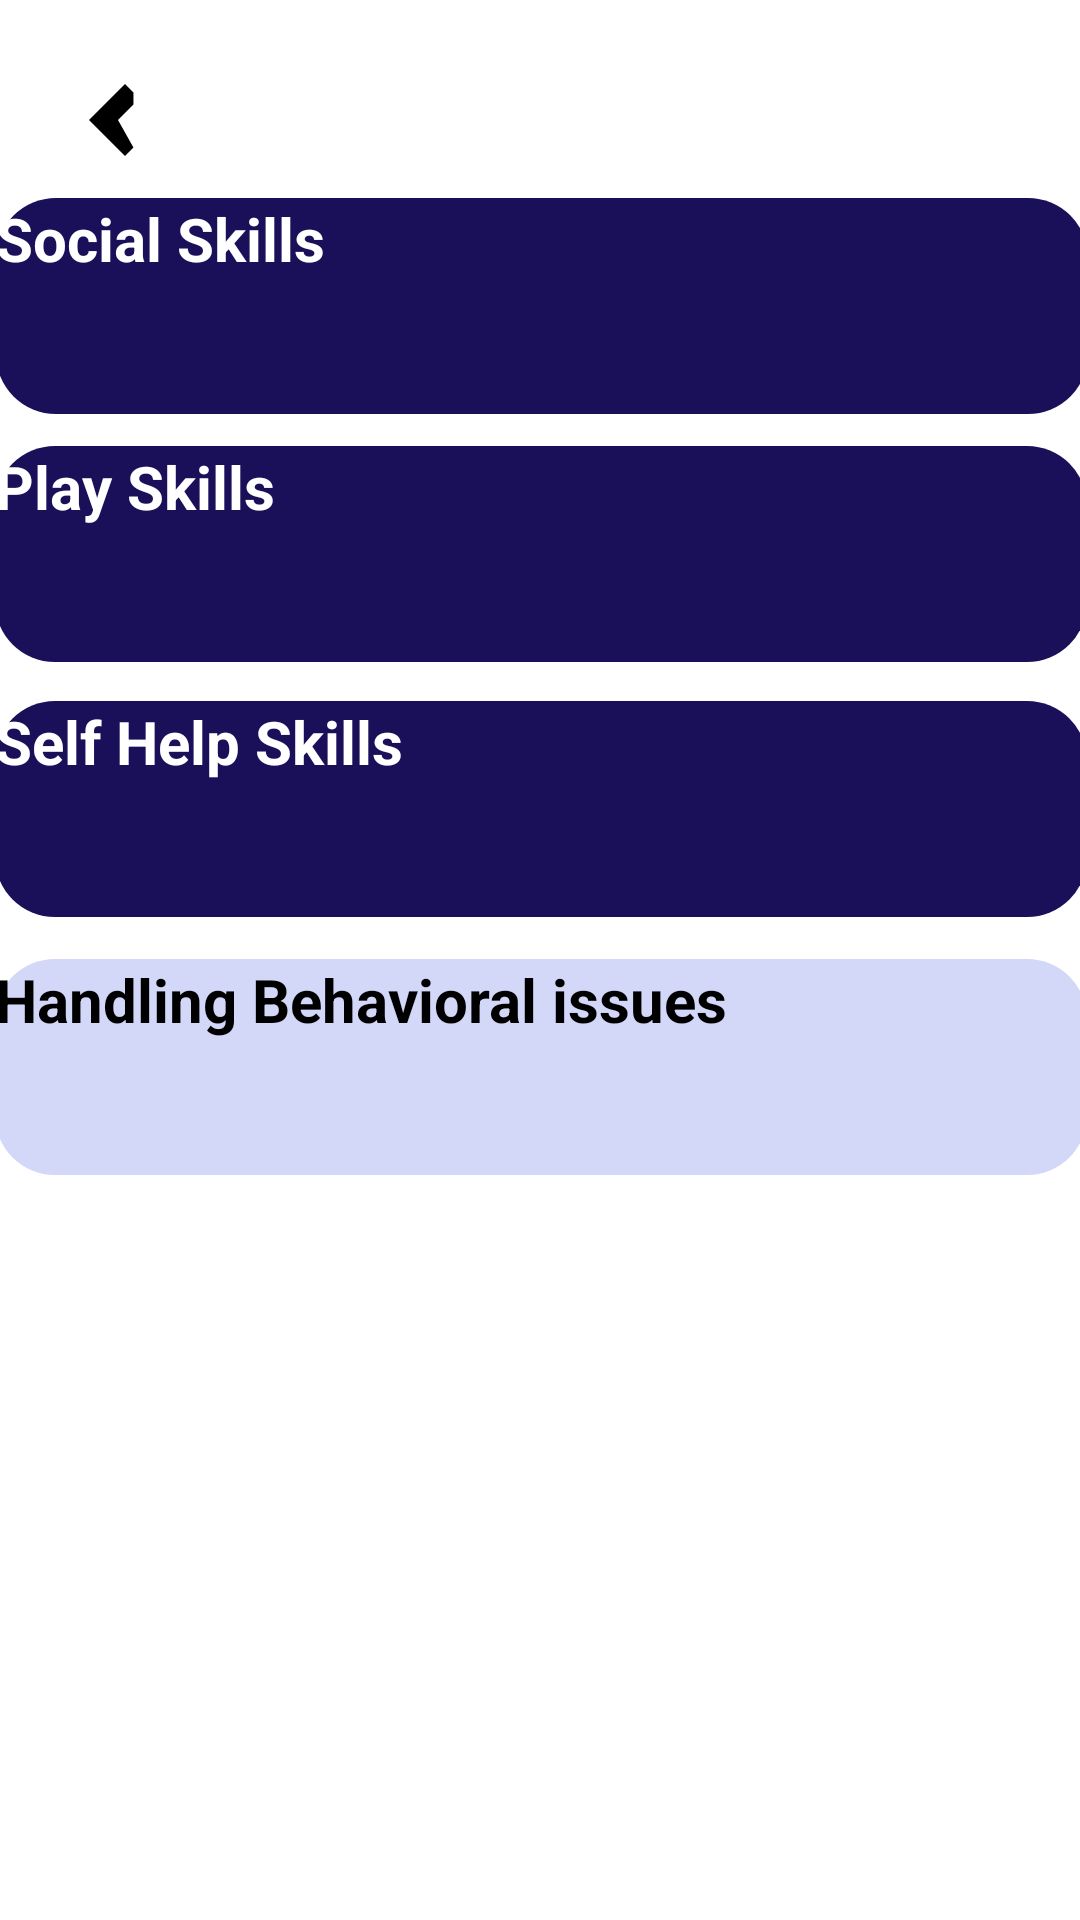

Where to tap for icons on this 1080w x 1920h app screen, as (x=x, y=y):
back: (x=111, y=120)
